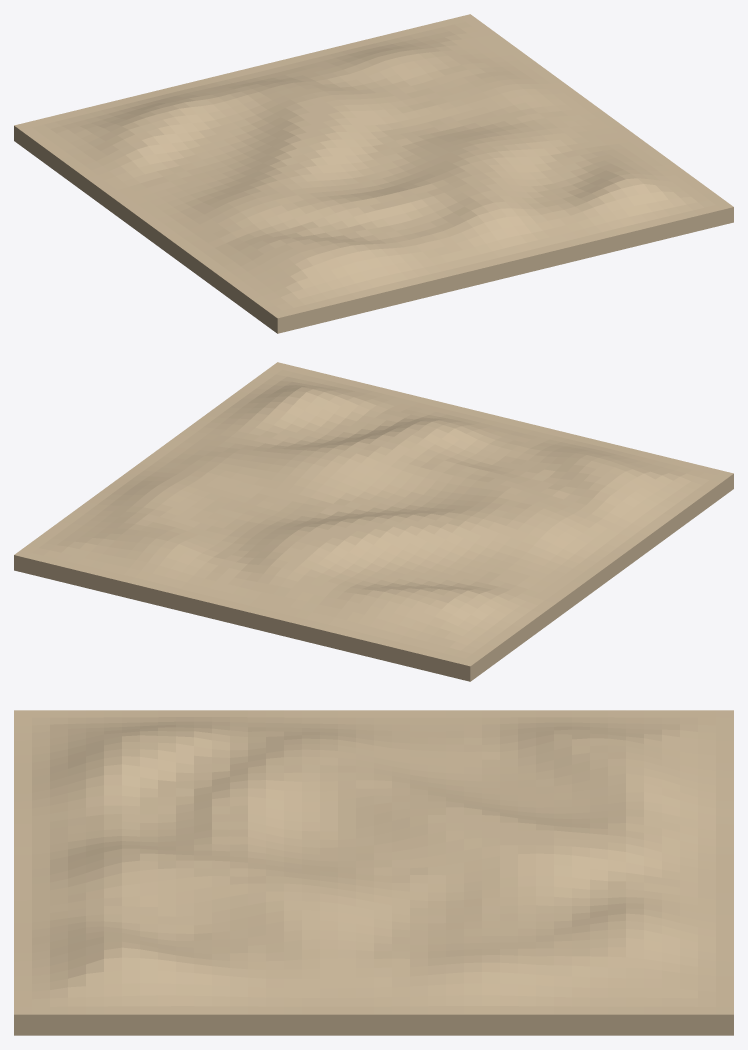
The model's file is tile_layer_surface_sand.glb.
The picture shows the model from 3 angles, top to bottom: view 1: azimuth 30°, elevation 25°; view 2: azimuth 150°, elevation 25°; view 3: azimuth 270°, elevation 25°; orthographic projection. The views are drawn at different scales.
Visible parts, largest first — view 1: sand_cap; view 2: sand_cap; view 3: sand_cap.
Part boxes in pixels (bbox=[...]): sand_cap: bbox=[14, 14, 733, 333]; sand_cap: bbox=[14, 362, 733, 681]; sand_cap: bbox=[14, 710, 733, 1035].
Size of the model in its own units: 1.7 by 0.119 by 1.7.
